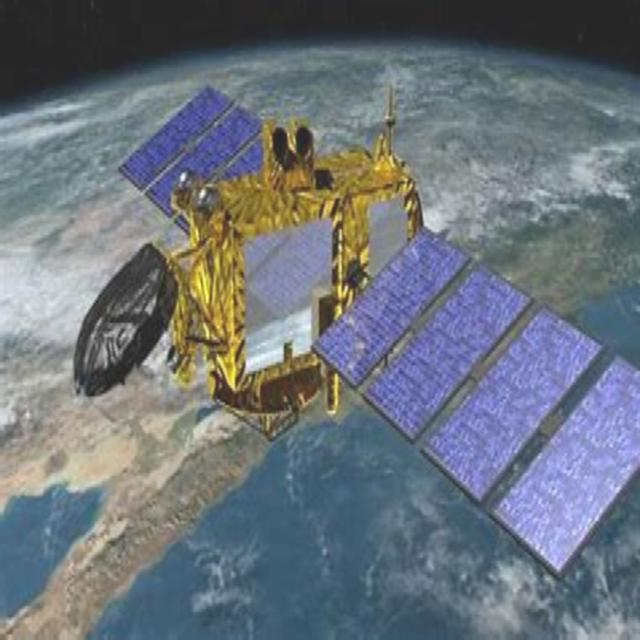satellite: (69, 64, 640, 570)
